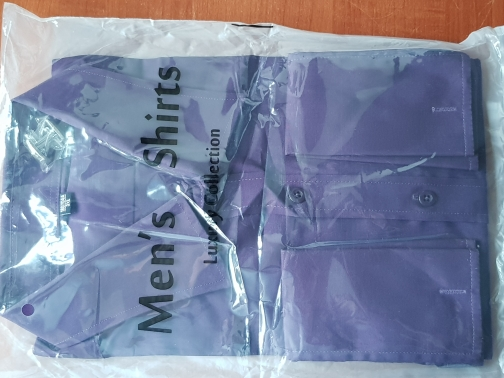shirts: (15, 60, 490, 363)
